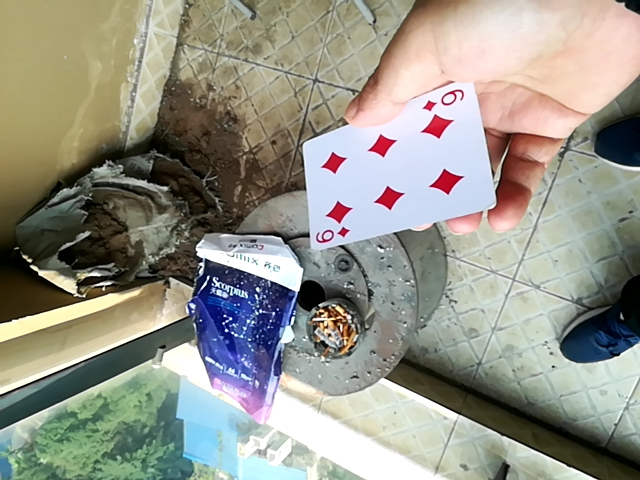fk 6: (296, 93, 496, 243)
